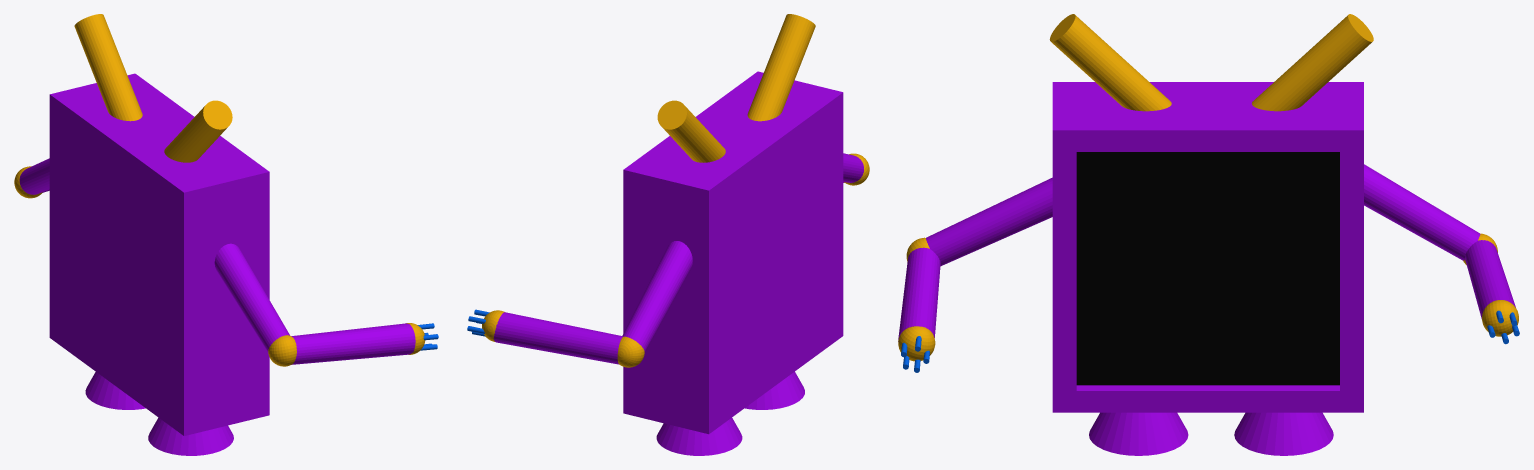
The model's file is ALICE_BOT.fbx.
3 views of the same model, side by side, from view 1: azimuth 30°, elevation 25°; view 2: azimuth 150°, elevation 25°; view 3: azimuth 270°, elevation 25° (orthographic). The views are drawn at different scales.
Visible parts, largest first — view 1: Cube, Cylinder.003, Cylinder.001, Cylinder.002, Cylinder, Cone, Cone.001, Cylinder.009, Sphere; view 2: Cube, Cylinder.010, Cylinder, Cylinder.009, Cylinder.001, Cone.001, Cone, Sphere.002, Cylinder.002; view 3: Cube, Cylinder, Cylinder.001, Cylinder.002, Cylinder.009, Cone, Cone.001, Cylinder.003, Cylinder.010, Sphere.003, Sphere.001.
Boxes of the visible parts, x1,y1,x2,y2 form: Cube: (49, 73, 269, 435); Cylinder.003: (291, 323, 415, 364); Cylinder.001: (74, 14, 142, 121); Cylinder.002: (214, 243, 289, 352); Cylinder: (164, 100, 232, 162); Cone: (148, 417, 233, 455); Cone.001: (85, 372, 145, 409); Cylinder.009: (19, 158, 49, 194); Sphere: (268, 335, 296, 366); Cube: (623, 71, 843, 434); Cylinder.010: (493, 312, 622, 364); Cylinder: (747, 14, 815, 121); Cylinder.009: (622, 241, 692, 352); Cylinder.001: (657, 100, 725, 162); Cone.001: (656, 418, 742, 455); Cone: (745, 371, 804, 409); Sphere.002: (617, 336, 644, 367); Cylinder.002: (843, 153, 863, 182); Cube: (1052, 82, 1363, 412); Cylinder: (1049, 14, 1171, 111); Cylinder.001: (1252, 14, 1373, 111); Cylinder.002: (926, 177, 1052, 266); Cylinder.009: (1364, 164, 1480, 260); Cone: (1089, 412, 1188, 455); Cone.001: (1234, 412, 1333, 455); Cylinder.003: (898, 247, 940, 341); Cylinder.010: (1465, 240, 1515, 318); Sphere.003: (1482, 300, 1518, 336); Sphere.001: (898, 326, 935, 361).
Bounding box in the file's own units: 164 × 293 × 398.
